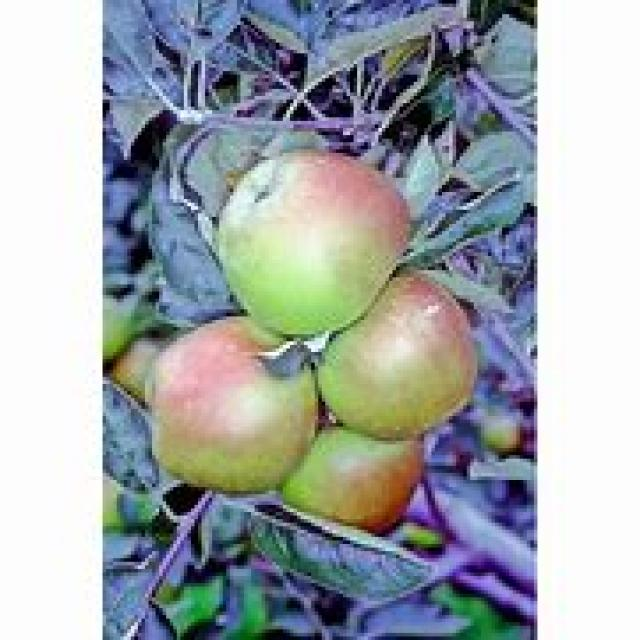apple: (218, 150, 411, 337), (153, 324, 318, 492)
